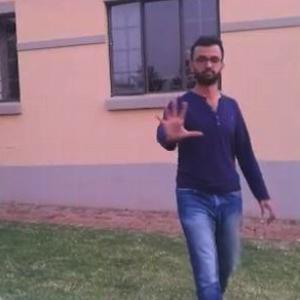follow_hand: (149, 92, 206, 145)
